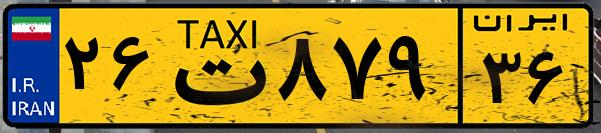2: (57, 26, 110, 100)
3: (475, 38, 525, 113)
6: (525, 38, 570, 115), (110, 28, 158, 98)
7: (330, 28, 385, 110)
8: (270, 28, 330, 110)
9: (385, 28, 445, 110)
ت: (158, 12, 270, 120)
